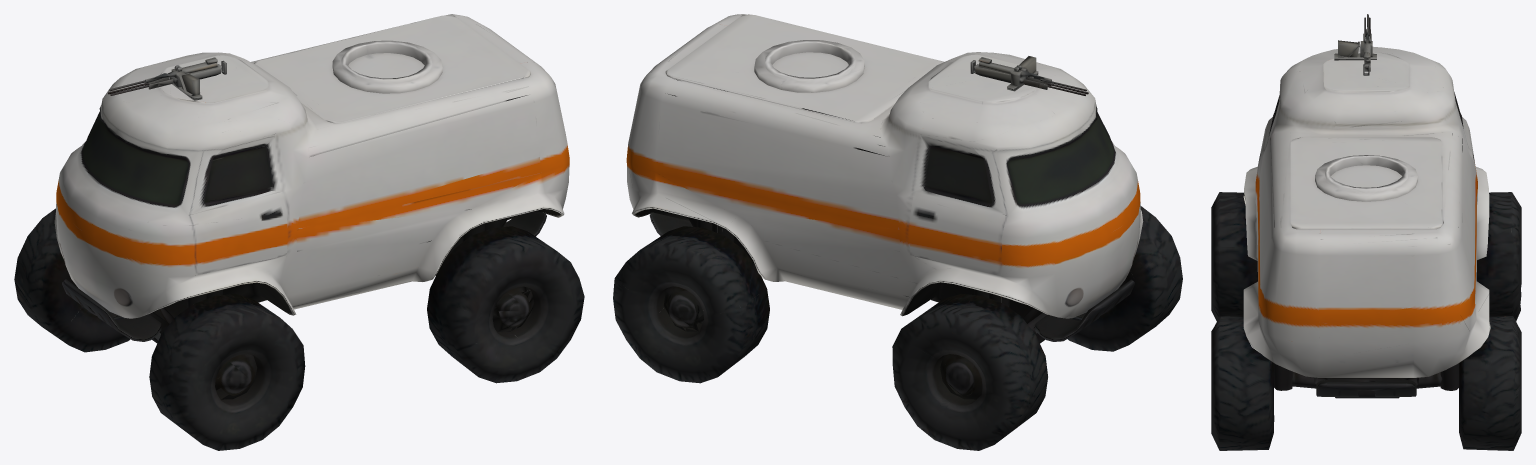
File: service_patrol.glb
3 renders of one model, left to right at view 1: azimuth 30°, elevation 25°; view 2: azimuth 150°, elevation 25°; view 3: azimuth 270°, elevation 25°, orthographic. The views are drawn at different scales.
Parts seen in each view (by area): view 1: geometry_0; view 2: geometry_0; view 3: geometry_0.
Part boxes in pixels (x1,y1,x2,y2): geometry_0: (14,14,584,450); geometry_0: (613,14,1182,450); geometry_0: (1211,14,1521,450).
Size of the model in its own units: 0.9546 by 0.6416 by 0.6216.
1 material, 1 textured.
